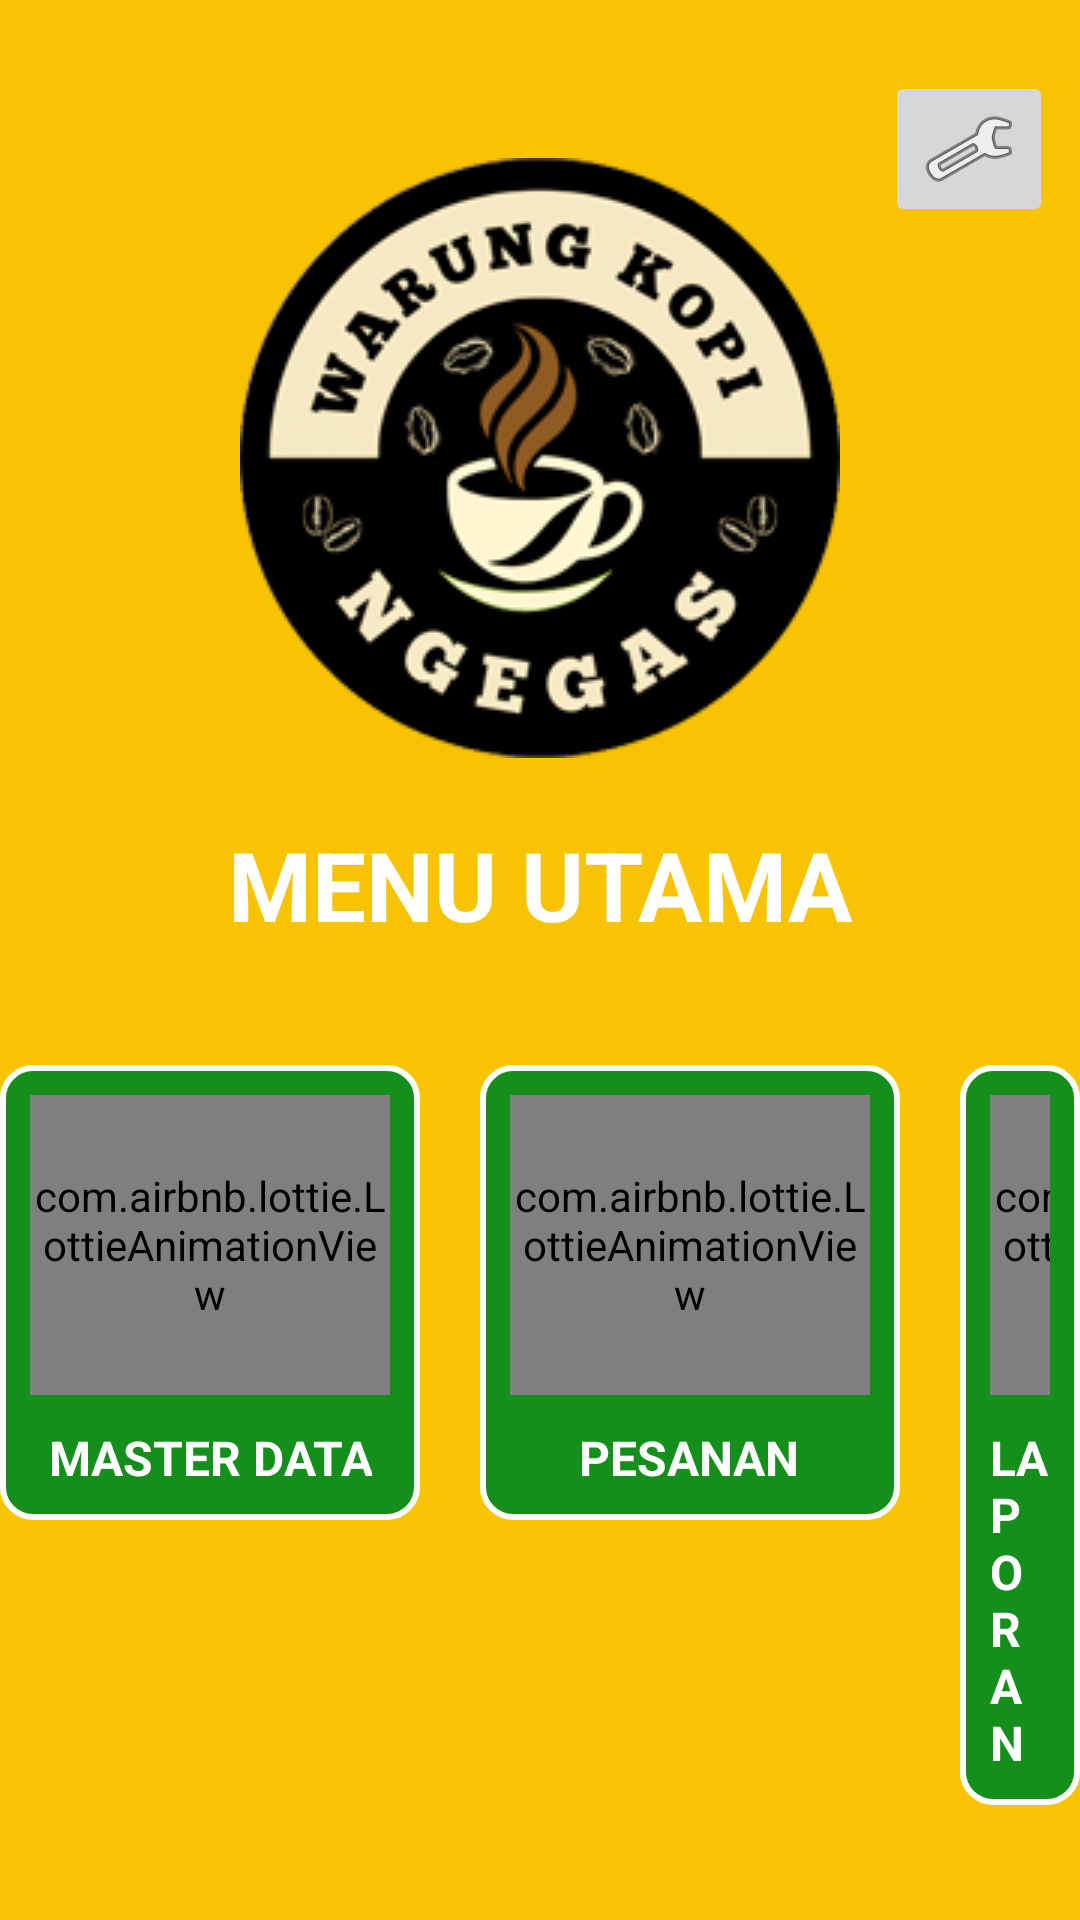

Point at icon controls on the screen. Image size 1080px×1920px, points as [x,y].
manage: [969,149]
